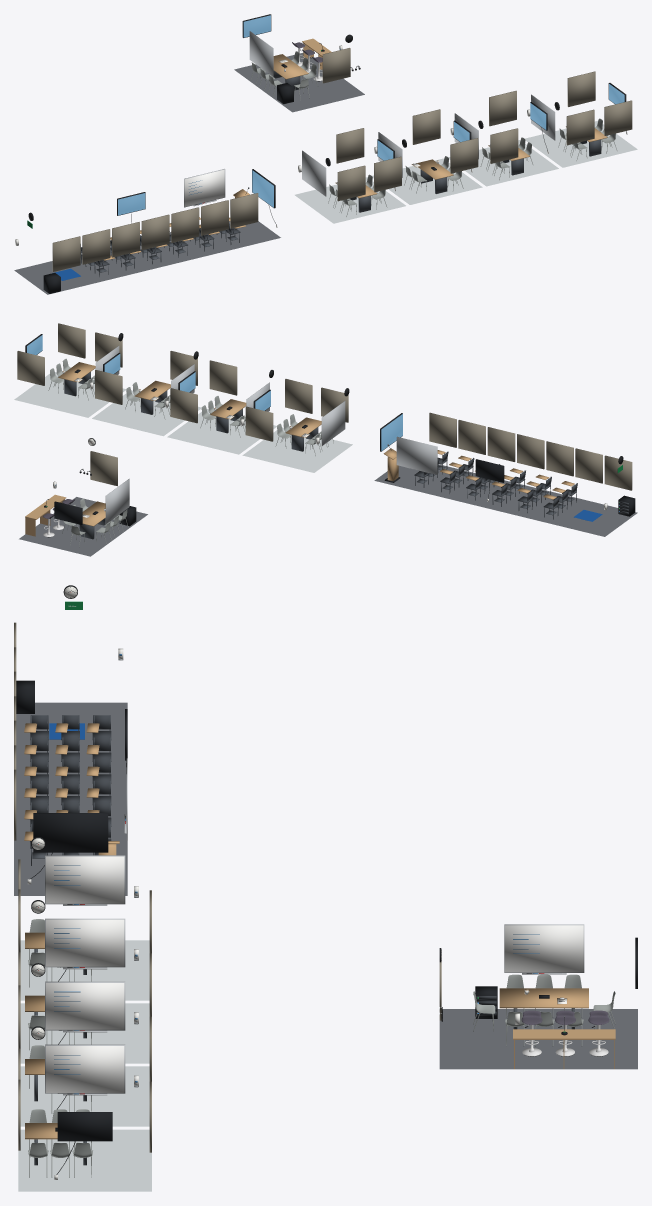
The model's file is 07_n1_debriefing.glb.
The picture shows the model from 3 angles, top to bottom: view 1: azimuth 30°, elevation 25°; view 2: azimuth 150°, elevation 25°; view 3: azimuth 270°, elevation 25°; orthographic projection. The views are drawn at different scales.
Visible parts, largest first — view 1: panel_acustico (×18), piso · Debriefing de quirófano y cirugía robótica, pizarron (×4), piso · Control y debriefing de trauma, piso · Debriefing de sala de urgencias · Triage, piso · Debriefing de urgencias ginecológicas, piso · Debriefing de urgencias adultos, piso · Debriefing de urgencias pediátricas, pantalla_55 (×2), mesa_8, mesa_6, pantalla_75; view 2: panel_acustico (×18), piso · Debriefing de quirófano y cirugía robótica, pizarron (×3), mesa_6 (×4), piso · Debriefing de urgencias ginecológicas, piso · Control y debriefing de trauma, piso · Debriefing de sala de urgencias · Triage, piso · Debriefing de urgencias pediátricas, piso · Debriefing de urgencias adultos, pantalla_55 (×2), mesa_8, barra de observación (+2 smaller); view 3: pizarron (×5), piso · Control y debriefing de trauma, piso · Debriefing de quirófano y cirugía robótica, piso · Debriefing de sala de urgencias · Triage, piso · Debriefing de urgencias pediátricas, piso · Debriefing de urgencias ginecológicas, piso · Debriefing de urgencias adultos, pantalla_75, mesa_8, pantalla_55, barra de observación.
Boxes of the visible parts, x1,y1,x2,y2 form: panel_acustico (×18): (52,48,632,271); piso · Debriefing de quirófano y cirugía robótica: (14,221,280,294); pizarron (×4): (184,31,555,207); piso · Control y debriefing de trauma: (234,53,364,112); piso · Debriefing de sala de urgencias · Triage: (525,121,637,167); piso · Debriefing de urgencias ginecológicas: (295,177,405,223); piso · Debriefing de urgencias adultos: (372,158,482,204); piso · Debriefing de urgencias pediátricas: (448,140,558,186); pantalla_55 (×2): (117,14,271,215); mesa_8: (268,54,308,90); mesa_6: (417,159,453,193); pantalla_75: (252,169,275,208); panel_acustico (×18): (17,323,632,490); piso · Debriefing de quirófano y cirugía robótica: (374,464,637,536); pizarron (×3): (105,401,437,523); mesa_6 (×4): (58,362,321,451); piso · Debriefing de urgencias ginecológicas: (242,427,352,472); piso · Control y debriefing de trauma: (19,497,147,556); piso · Debriefing de sala de urgencias · Triage: (14,372,126,417); piso · Debriefing de urgencias pediátricas: (92,390,201,436); piso · Debriefing de urgencias adultos: (167,409,276,454); pantalla_55 (×2): (54,459,504,524); mesa_8: (79,501,110,539); barra de observación: (25,494,66,536); pizarron (×5): (45,855,584,1095); piso · Control y debriefing de trauma: (439,1009,637,1069); piso · Debriefing de quirófano y cirugía robótica: (14,702,127,895); piso · Debriefing de sala de urgencias · Triage: (18,1129,151,1191); piso · Debriefing de urgencias pediátricas: (20,1066,149,1126); piso · Debriefing de urgencias ginecológicas: (20,940,149,1000); piso · Debriefing de urgencias adultos: (20,1003,149,1063); pantalla_75: (33,813,108,852); mesa_8: (499,988,588,1029); pantalla_55: (57,1112,112,1141); barra de observación: (513,1029,615,1069).
Size of the model in its own units: 25.95 by 2.91 by 14.
35 materials, 4 textured.
